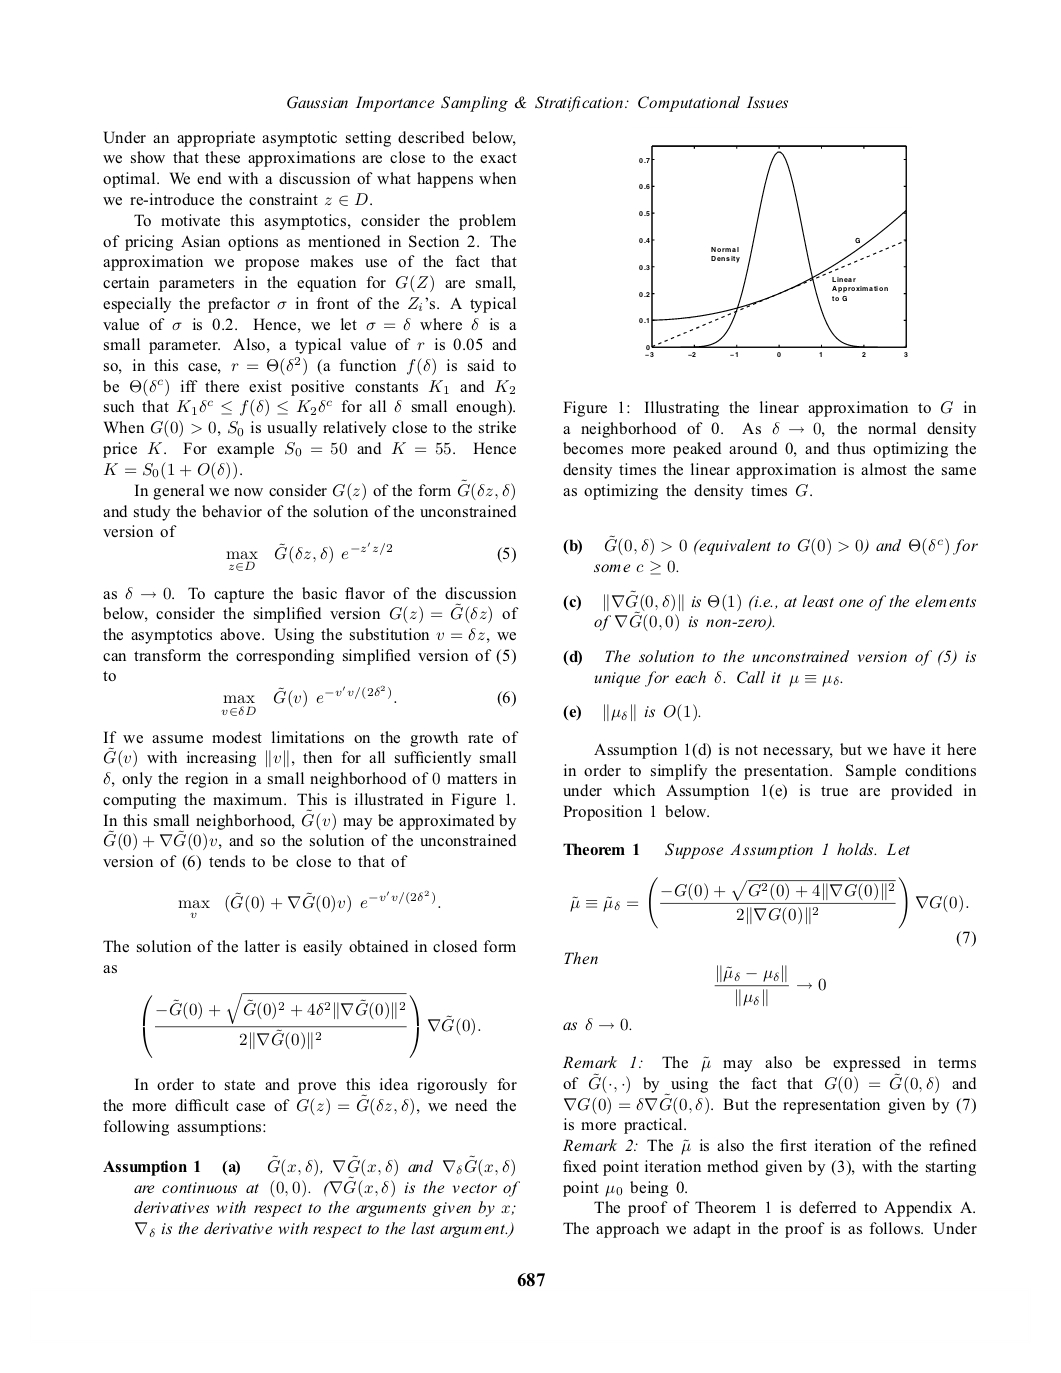figure: (639, 144, 907, 357)
formula: (570, 876, 975, 947), (143, 992, 480, 1058), (564, 951, 825, 1007), (221, 684, 515, 715), (226, 541, 515, 571), (178, 889, 440, 919), (103, 461, 241, 480), (563, 1017, 631, 1031)
